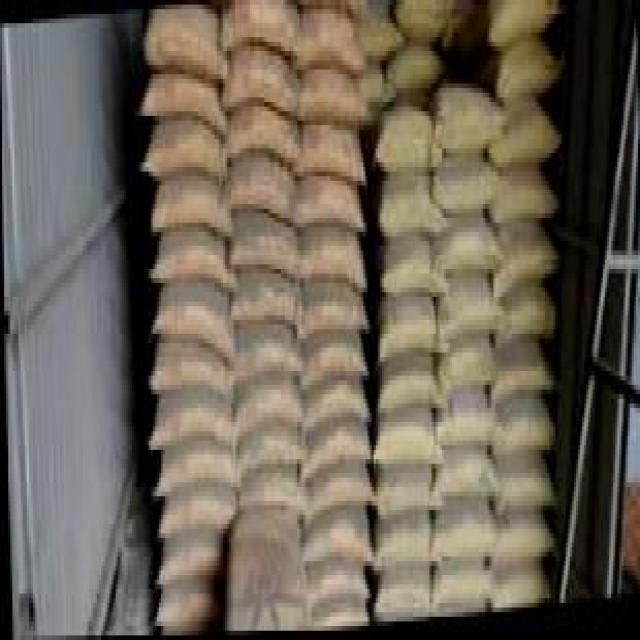gunny_bag: (227, 510, 303, 615), (153, 294, 224, 369), (151, 25, 223, 94), (222, 158, 292, 228), (155, 192, 230, 249), (226, 227, 295, 287), (226, 63, 290, 127), (222, 8, 296, 62), (159, 534, 227, 592), (299, 68, 368, 125), (232, 389, 301, 445), (303, 380, 366, 441), (302, 471, 368, 529), (232, 337, 293, 399), (496, 236, 551, 304), (150, 133, 220, 185), (500, 52, 561, 110), (297, 28, 357, 84), (298, 138, 357, 191), (156, 411, 227, 455), (440, 298, 494, 355), (435, 227, 488, 285), (296, 190, 356, 241), (381, 307, 437, 361), (432, 460, 490, 512), (434, 518, 488, 573), (492, 358, 546, 411), (374, 529, 429, 581), (493, 117, 552, 165), (496, 413, 547, 468), (300, 292, 358, 340), (490, 0, 553, 44), (436, 166, 490, 217), (438, 101, 492, 150), (491, 180, 547, 227), (384, 194, 436, 244), (381, 124, 433, 173), (154, 591, 216, 632), (373, 580, 430, 624), (376, 429, 432, 473), (499, 298, 546, 349), (158, 464, 231, 496), (380, 371, 433, 413), (305, 531, 362, 570), (387, 48, 441, 89), (381, 261, 435, 300), (398, 0, 448, 41), (500, 477, 549, 517), (500, 524, 546, 566), (491, 580, 547, 614), (435, 579, 487, 615), (438, 410, 484, 450), (379, 487, 427, 523), (308, 601, 363, 632)
